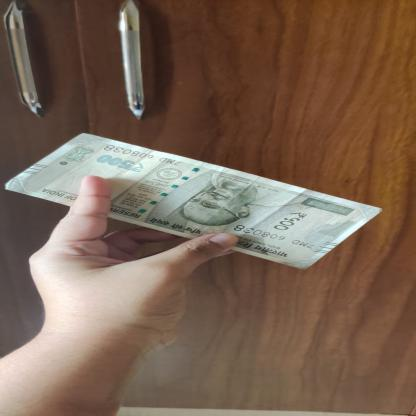New500Front: (4, 132, 386, 271)
